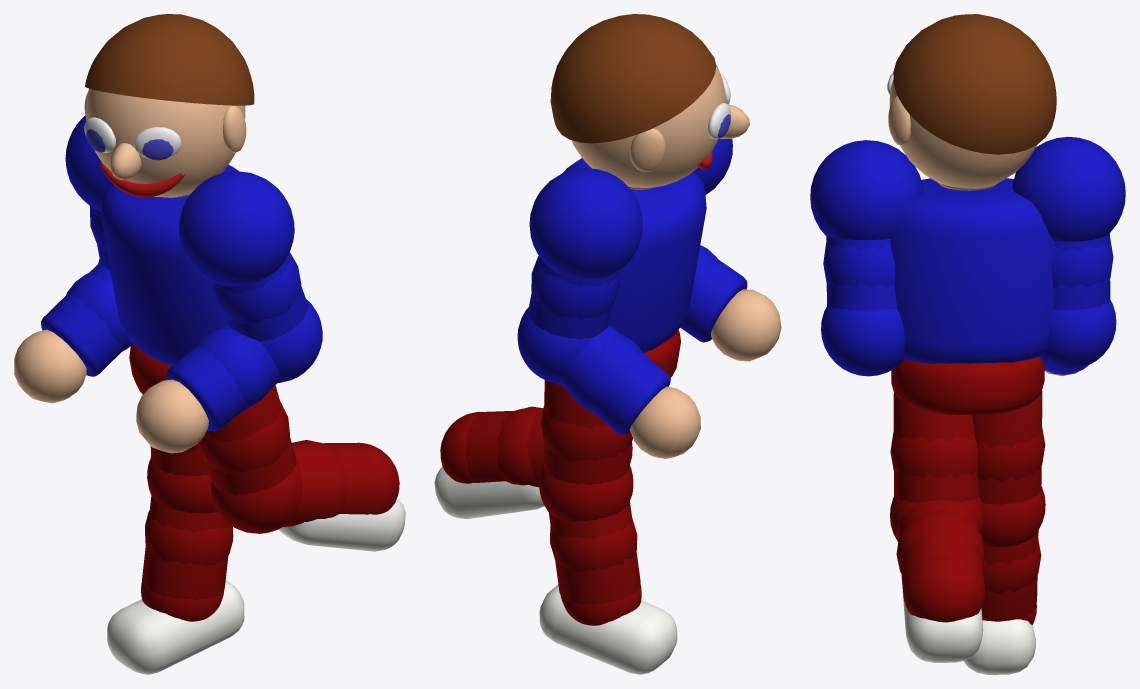
3 renders of one model, left to right at view 1: azimuth 30°, elevation 25°; view 2: azimuth 150°, elevation 25°; view 3: azimuth 270°, elevation 25°, orthographic. The views are drawn at different scales.
Visible parts, largest first — view 1: torso, hair, shoulder_ball_n, head, shoe_f, shin_f, farm_n, hand_n, hand_f, thigh_n, shoe_n, farm_f (+21 smaller); view 2: hair, torso, shoulder_ball_f, shoe_f, head, shin_f, farm_f, hand_n, thigh_f, hand_f, shoe_n, knee_ball_f (+15 smaller); view 3: torso, hair, shoulder_ball_n, shoulder_ball_f, pelvis, elbow_ball_n, thigh_n, head, ankle_ball_n, thigh_f, elbow_ball_f, thigh_bulge_n (+14 smaller).
Part boxes in pixels (x1,y1,x2,y2): torso: (100,165,239,365); hair: (85,14,254,105); shoulder_ball_n: (178,171,294,286); head: (86,88,245,197); shoe_f: (107,580,244,674); shin_f: (142,496,229,599); farm_n: (166,326,280,431); hand_n: (136,379,208,453); hand_f: (14,329,86,403); thigh_n: (204,385,296,494); shoe_n: (279,498,405,551); farm_f: (41,263,123,376); hair: (550,14,716,143); torso: (563,158,706,353); shoulder_ball_f: (529,168,642,279); shoe_f: (539,584,677,674); head: (571,65,726,187); shin_f: (549,501,640,604); farm_f: (559,325,670,435); hand_n: (711,289,781,361); thigh_f: (543,380,629,484); hand_f: (630,386,700,458); shoe_n: (434,466,544,518); knee_ball_f: (539,464,633,521); torso: (890,178,1053,363); hair: (893,14,1056,154); shoulder_ball_n: (810,140,923,240); shoulder_ball_f: (1012,136,1125,241); pelvis: (891,357,1044,415); elbow_ball_n: (821,306,904,376); thigh_n: (893,393,979,502); head: (889,78,1036,188); ankle_ball_n: (903,556,984,622); thigh_f: (972,391,1042,504); elbow_ball_f: (1039,299,1116,369); thigh_bulge_n: (890,431,977,478).
Size of the model in its own units: 0.7497 by 1.46 by 0.6539.
